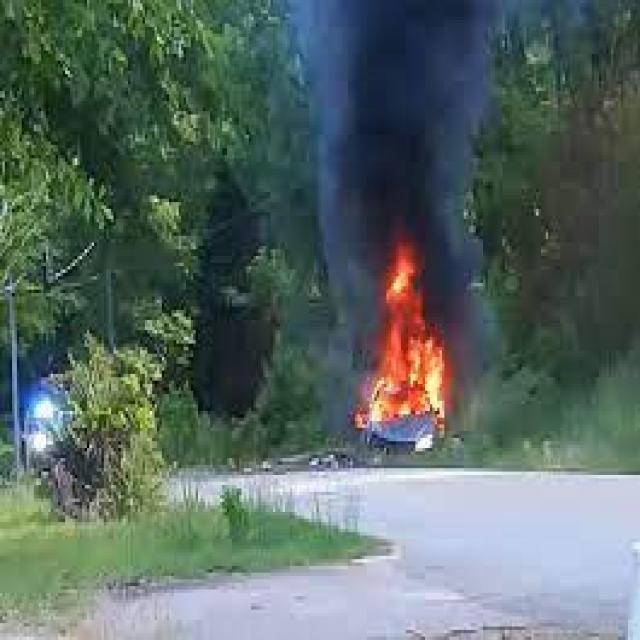Fire: (356, 232, 448, 432)
Smoke: (270, 0, 508, 231)
